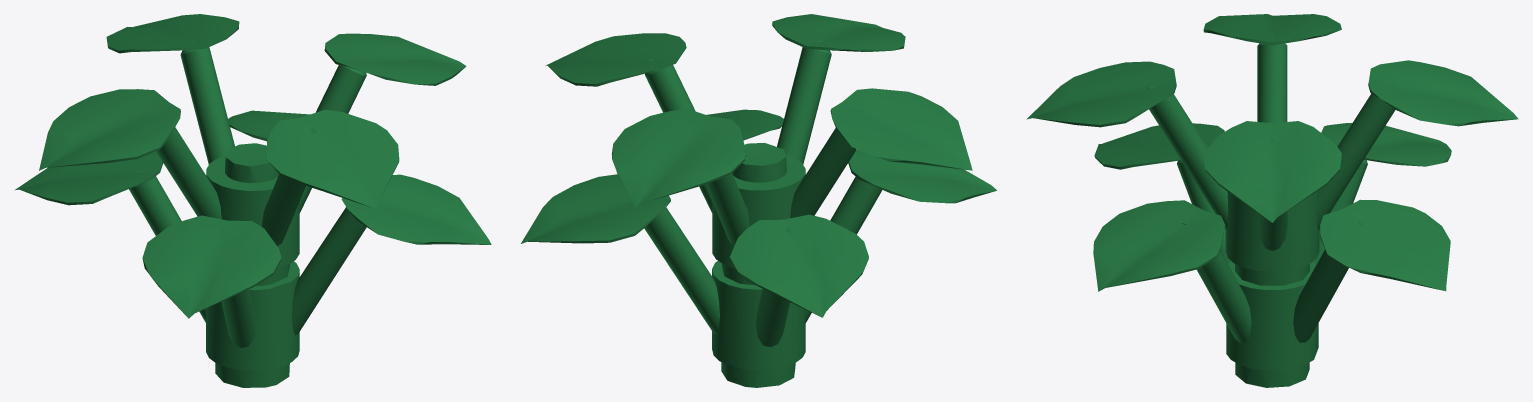
Rendered from frog_leafy_a.glb.
3 renders of one model, left to right at view 1: azimuth 30°, elevation 25°; view 2: azimuth 150°, elevation 25°; view 3: azimuth 270°, elevation 25°, orthographic.
Parts seen in each view (by area): view 1: frog_leafy_a; view 2: frog_leafy_a; view 3: frog_leafy_a.
Boxes of the visible parts, x1,y1,x2,y2 form: frog_leafy_a: [14, 14, 491, 387]; frog_leafy_a: [521, 14, 996, 387]; frog_leafy_a: [1026, 14, 1518, 387].
Bounding box in the file's own units: 1.48 × 0.9749 × 1.49.
